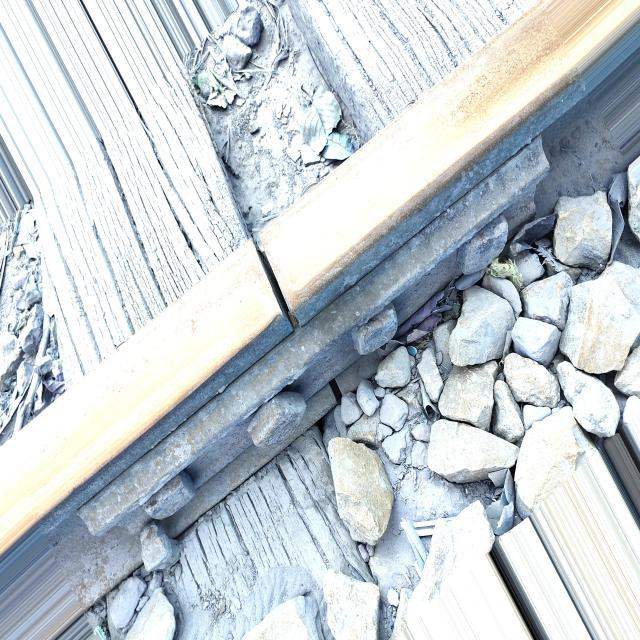Good Joint: (56, 129, 548, 531)
